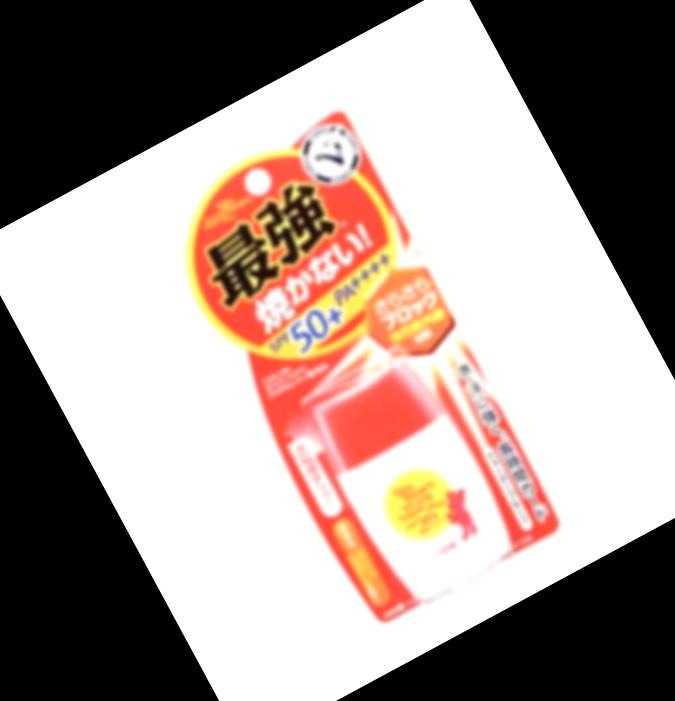cosmetic: (302, 350, 527, 616)
